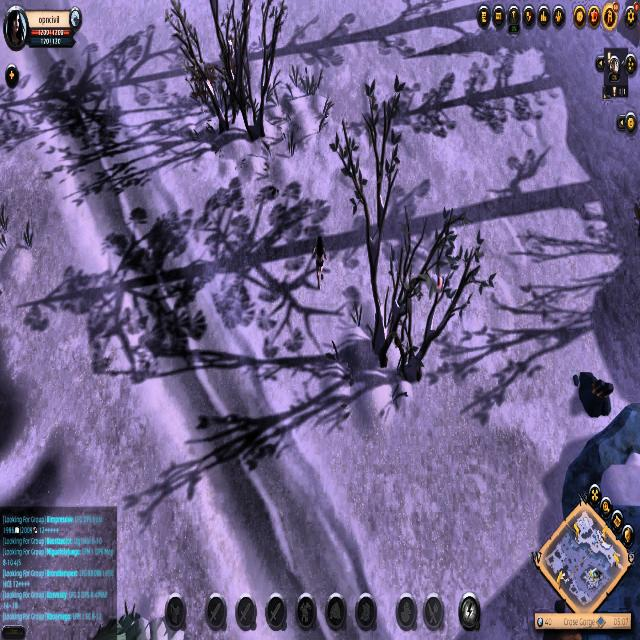copper_ore: (576, 353, 616, 422)
